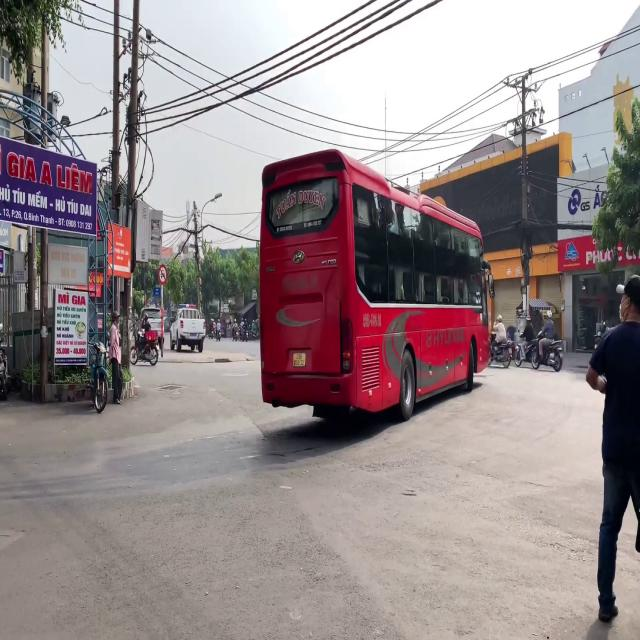bien_vang: (293, 353, 306, 367)
